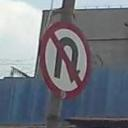NoVirarU: (36, 20, 94, 103)
